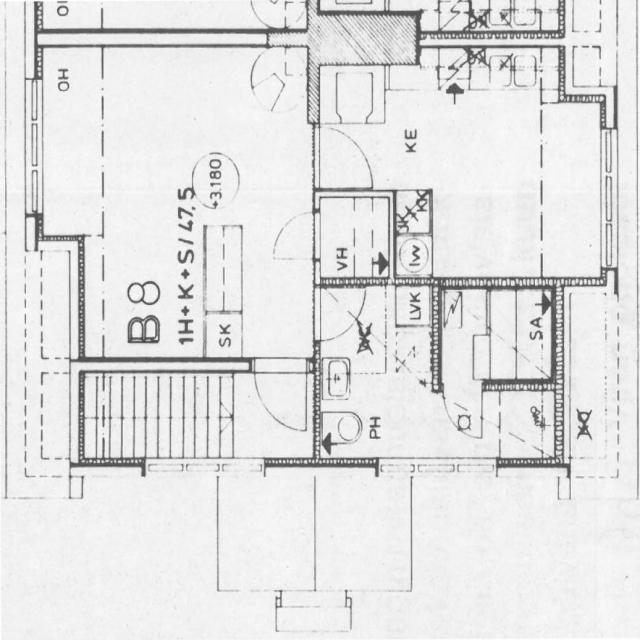door: (254, 358, 306, 433), (313, 127, 371, 188), (312, 288, 362, 339), (272, 211, 320, 259), (443, 378, 482, 436)
